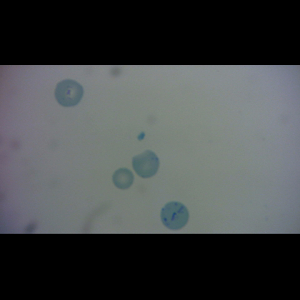aggregate reticulocyte: (159, 200, 191, 232)
erythrocyte: (53, 78, 86, 109), (111, 166, 136, 190)
punctate reticulocyte: (131, 148, 161, 179)
